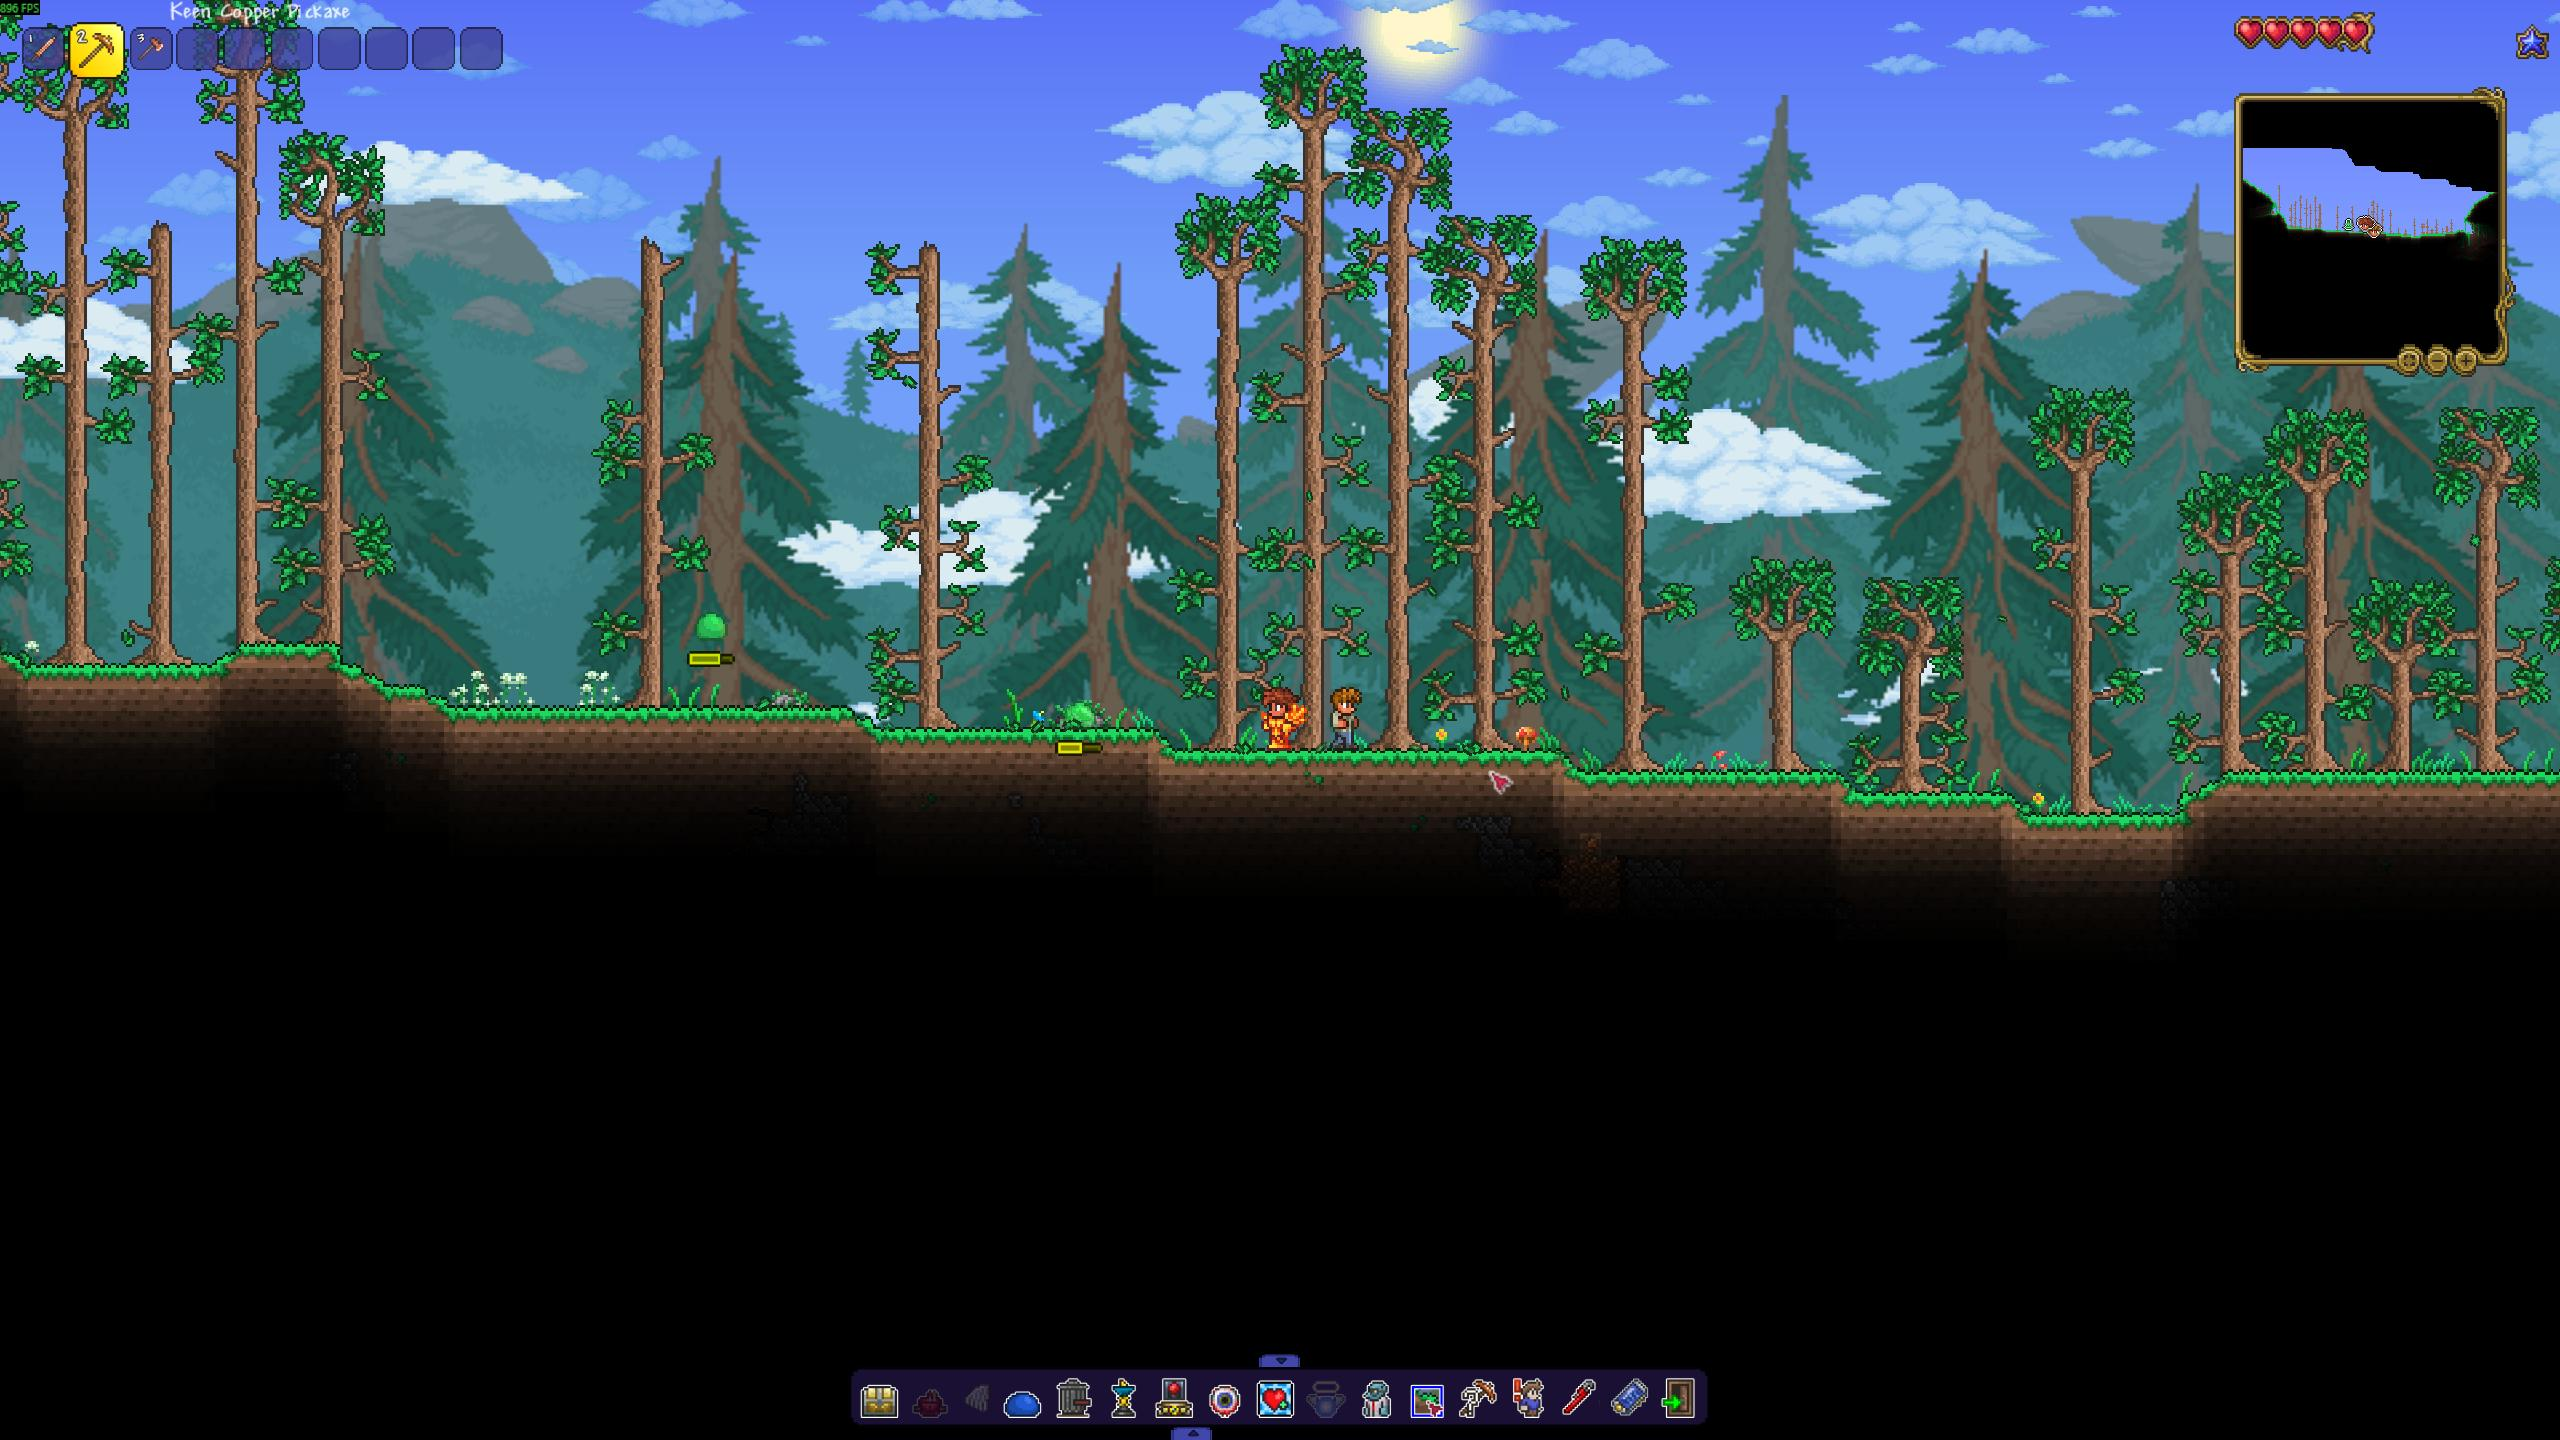Green Slime: (691, 608, 730, 642), (1062, 700, 1095, 730)
